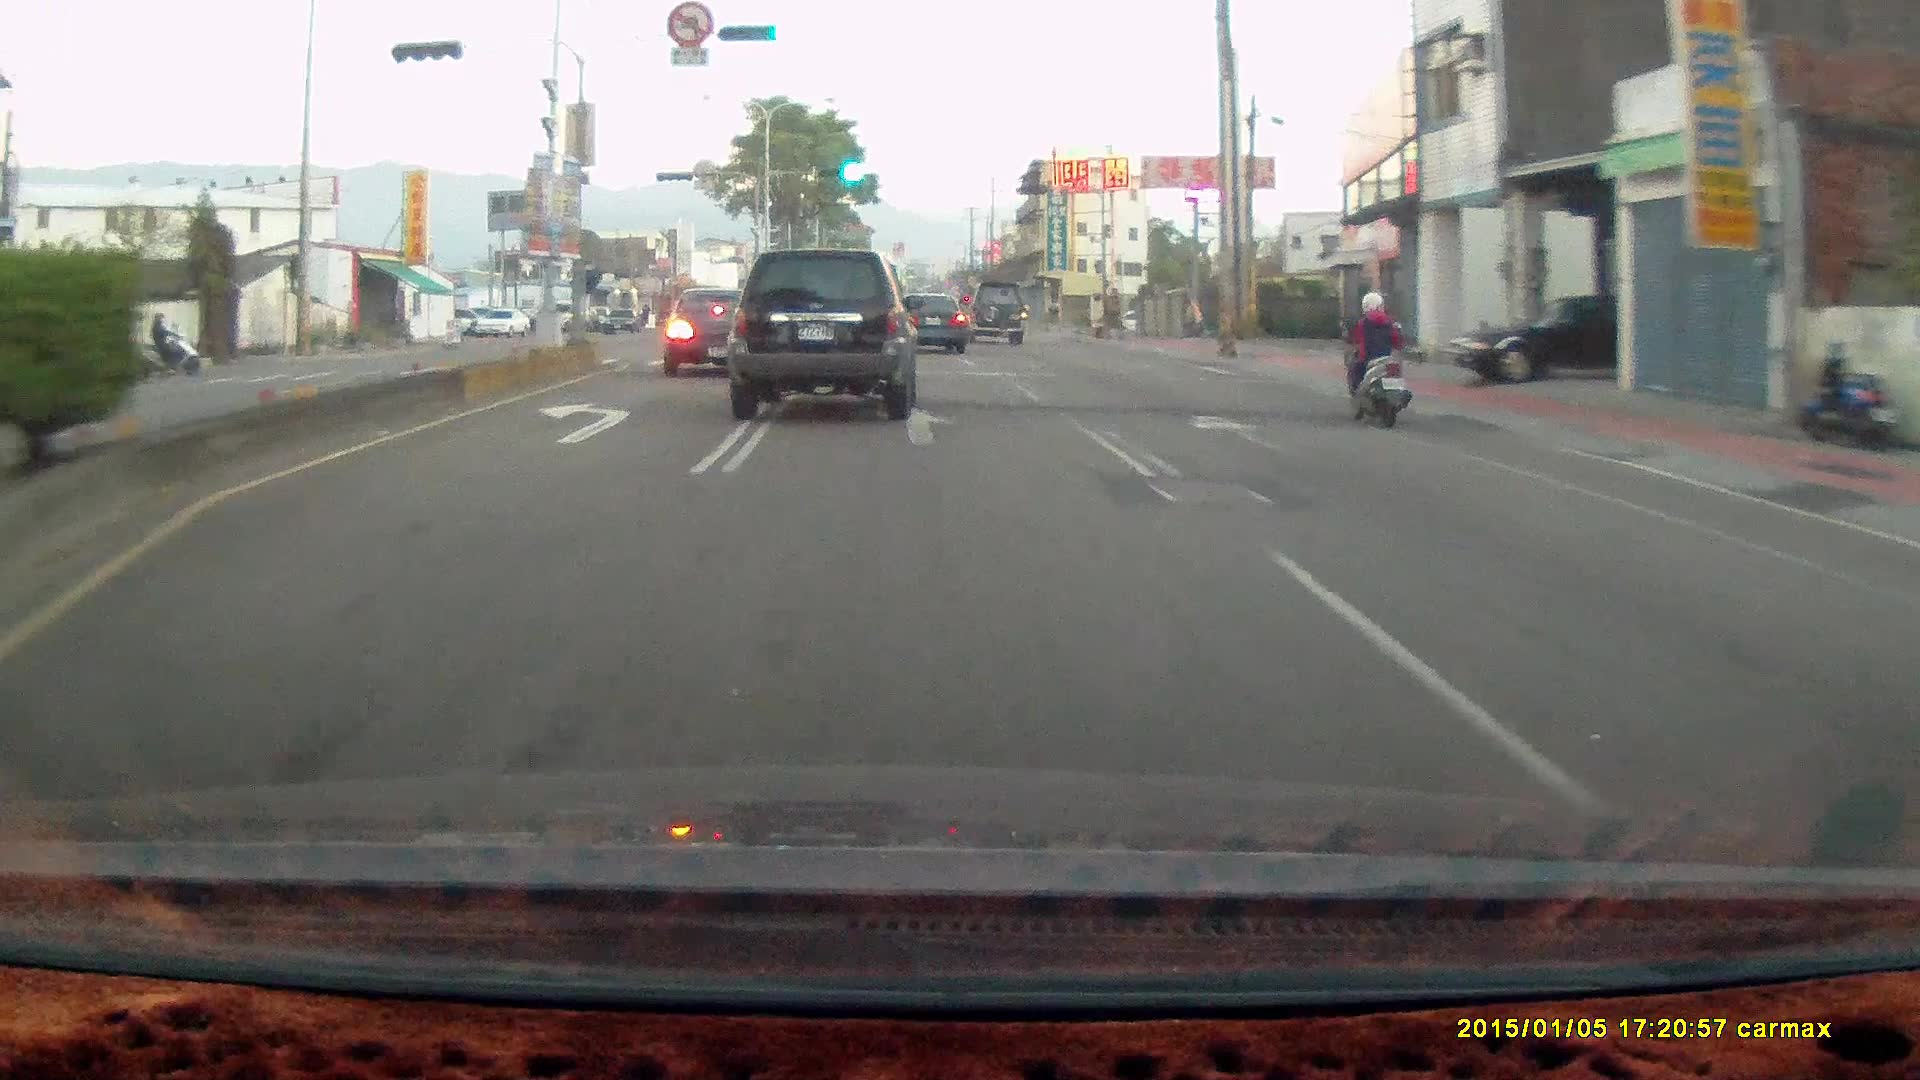rider: (1328, 282, 1424, 436), (1334, 286, 1411, 423), (127, 312, 203, 380)
vehicle: (733, 253, 927, 434), (727, 249, 924, 420), (1445, 292, 1696, 383), (1447, 293, 1631, 384), (665, 286, 775, 376), (662, 287, 771, 375), (889, 290, 966, 352), (894, 291, 969, 354), (961, 281, 1029, 347), (960, 278, 1026, 342), (470, 305, 531, 337), (533, 301, 587, 329), (603, 307, 641, 331)
